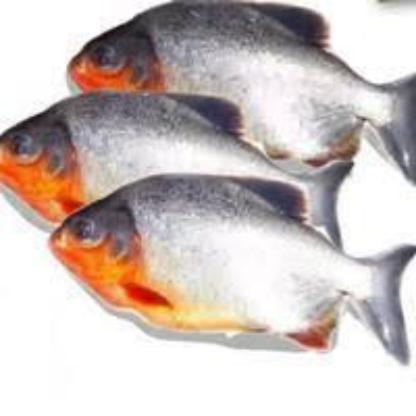ikan-pacu: (52, 178, 390, 342), (64, 1, 398, 142), (0, 90, 338, 218)
